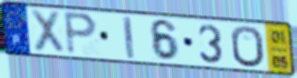3: (196, 23, 224, 65)
6: (148, 18, 182, 63)
I: (121, 15, 137, 61)
O: (229, 24, 267, 69)
P: (62, 9, 100, 57)
X: (29, 8, 67, 56)
